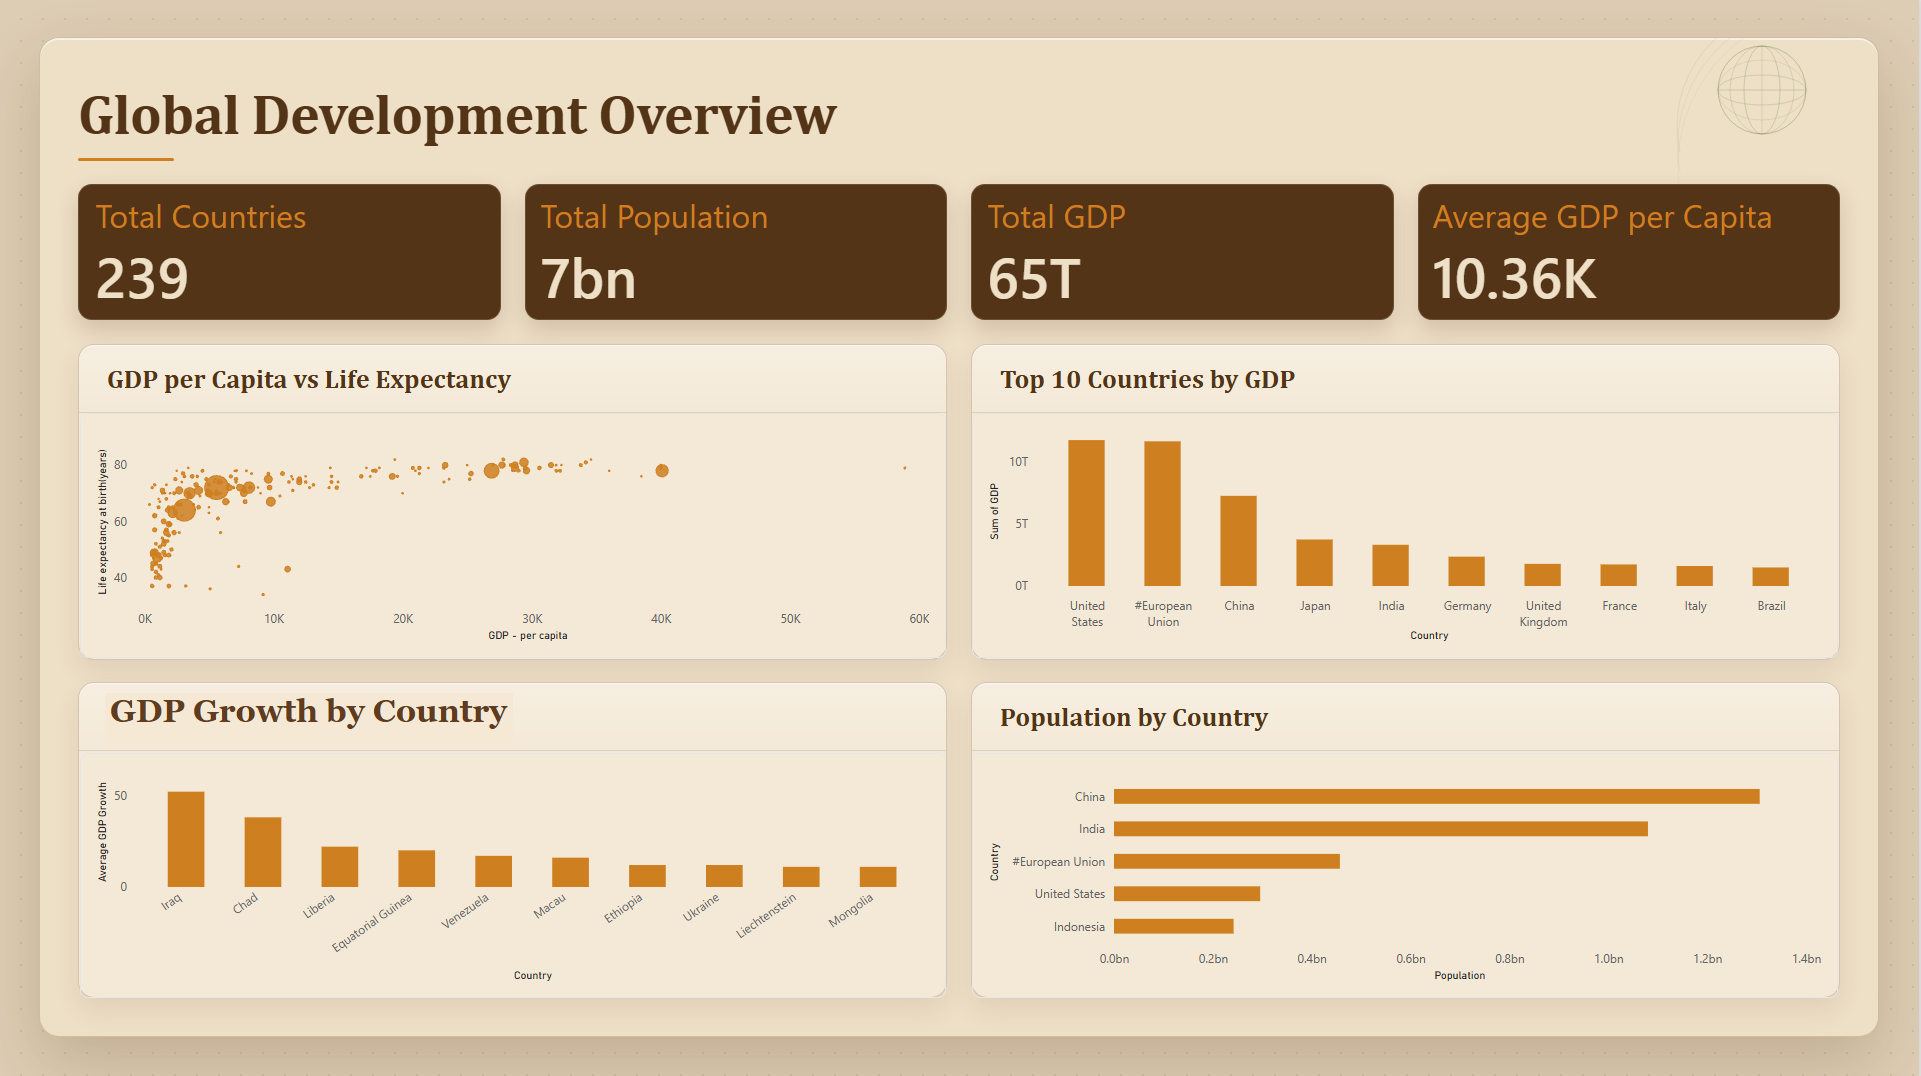

The dashboard page shown, as its layout file describes it:
{"tool":"powerbi","page":{"name":"Global Overview","canvas":[1920,1080],"ordinal":1},"visuals":[{"type":"cardVisual","fields":{"Data":["_Measures.Total Countries"]},"box":[81,197,263,114],"z":0},{"type":"cardVisual","fields":{"Data":["_Measures.Total Population"]},"box":[526,197,266,114],"z":1000},{"type":"cardVisual","fields":{"Data":["_Measures.Total GDP"]},"box":[973,197,263,114],"z":2000},{"type":"cardVisual","fields":{"Data":["_Measures.Average GDP per Capita"]},"box":[1418,197,387,114],"z":3000},{"type":"scatterChart","fields":{"Size":["Sum(Country Data Comparison.Population)"],"X":["Country Data Comparison.GDP - per capita"],"Y":["Country Data Comparison.Life expectancy at birth(years)"]},"box":[81,414,866,245],"z":4000},{"type":"clusteredColumnChart","fields":{"Category":["Country Data Comparison.Country"],"Y":["Sum(Country Data Comparison.GDP)"]},"box":[973,414,866,245],"z":5000},{"type":"textbox","box":[106,694,408,53],"z":6000},{"type":"clusteredColumnChart","fields":{"Category":["Country Data Comparison.Country"],"Y":["_Measures.Average GDP Growth"]},"box":[81,754,866,245],"z":7000},{"type":"clusteredBarChart","fields":{"Category":["Country Data Comparison.Country"],"Y":["Sum(Country Data Comparison.Population)"]},"box":[973,754,866,245],"z":8000}]}

Visuals, with their boxes in screenshot pixels (x1, y1, x2, y2), scaled from the page's 1920x1080 canvas onto the 1921x1076 screenshot:
cardVisual - _Measures.Total Countries: 81 196 344 310
cardVisual - _Measures.Total Population: 526 196 792 310
cardVisual - _Measures.Total GDP: 974 196 1237 310
cardVisual - _Measures.Average GDP per Capita: 1419 196 1806 310
scatterChart - Sum(Country Data Comparison.Population) x Country Data Comparison.GDP - per capita: 81 412 947 657
clusteredColumnChart - Country Data Comparison.Country x Sum(Country Data Comparison.GDP): 974 412 1840 657
textbox: 106 691 514 744
clusteredColumnChart - Country Data Comparison.Country x _Measures.Average GDP Growth: 81 751 947 995
clusteredBarChart - Country Data Comparison.Country x Sum(Country Data Comparison.Population): 974 751 1840 995
